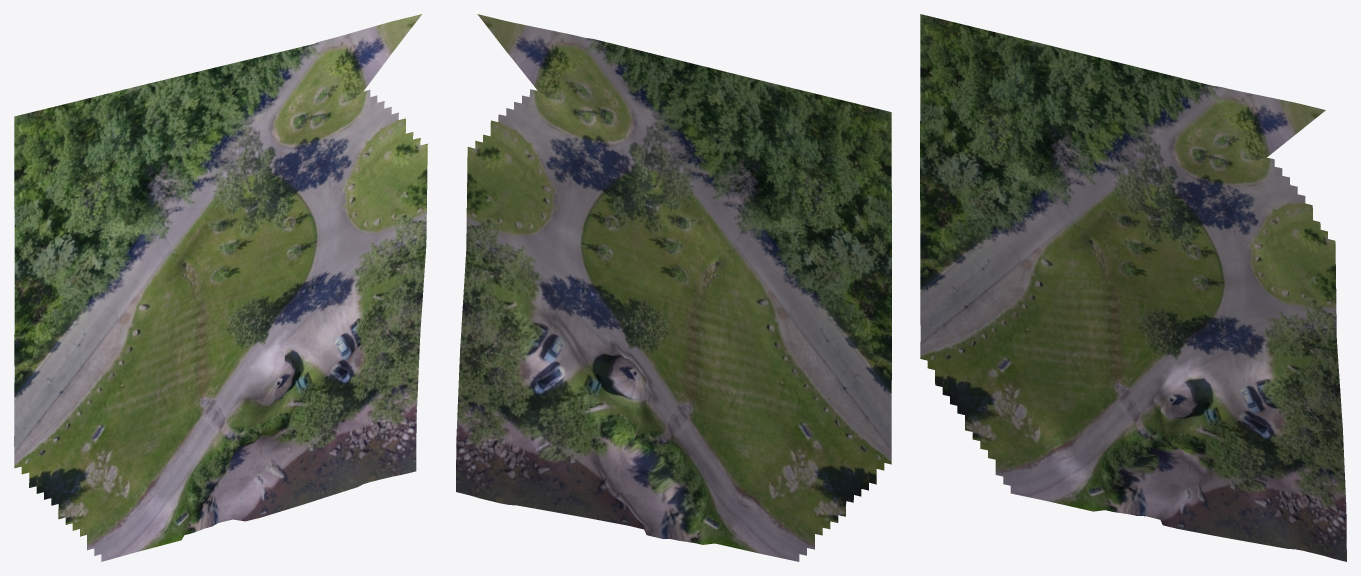
File: odm_textured_model.obj
The picture shows the model from 3 angles, left to right: view 1: azimuth 30°, elevation 25°; view 2: azimuth 150°, elevation 25°; view 3: azimuth 330°, elevation 25°; orthographic projection. The views are drawn at different scales.
Bounding box in the file's own units: 69.68 × 74.66 × 6.14.
1 material, 1 textured.
